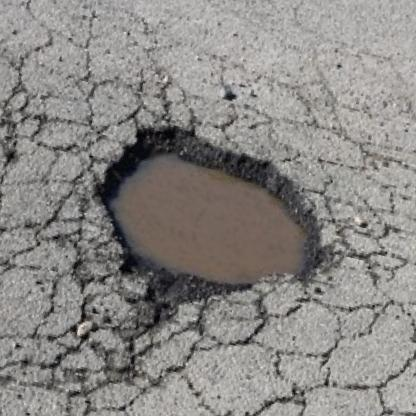pothole: (78, 108, 344, 309)
